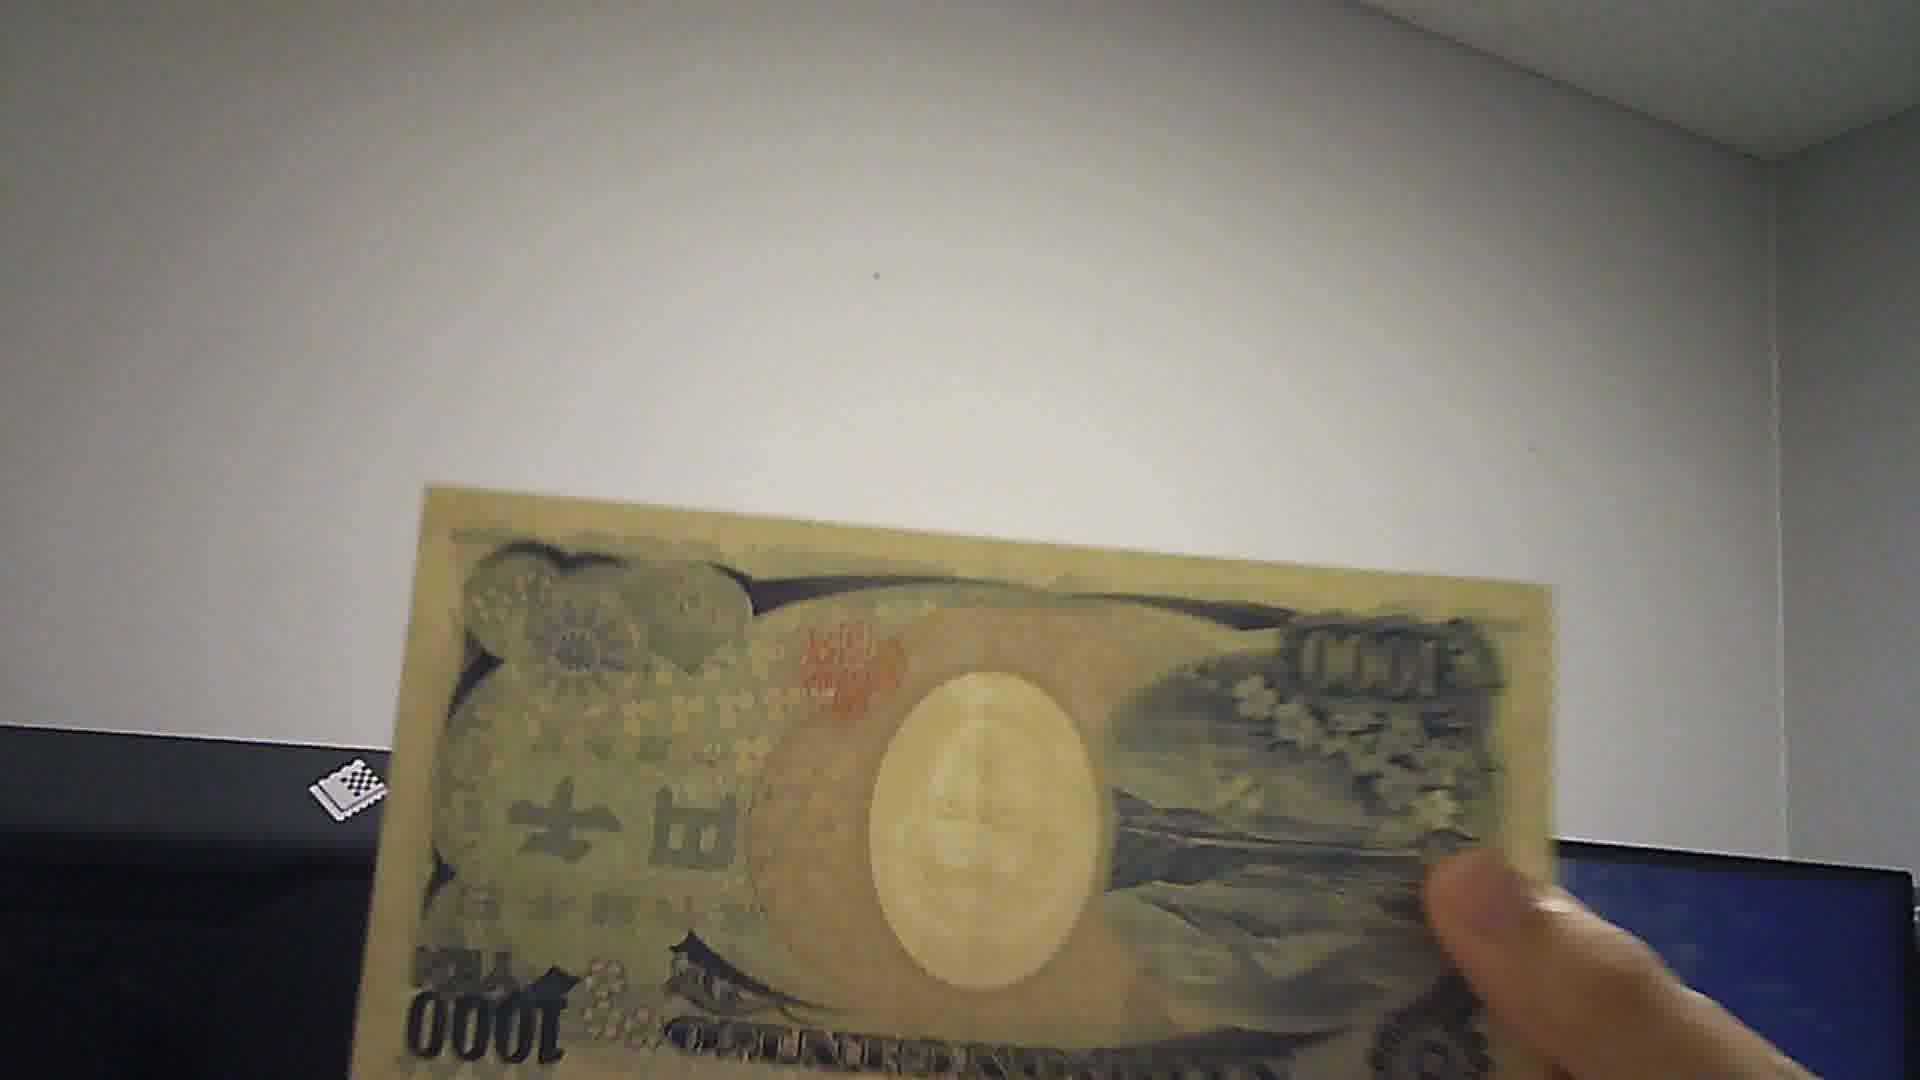1,000 Yen: (348, 462, 1542, 1077)
